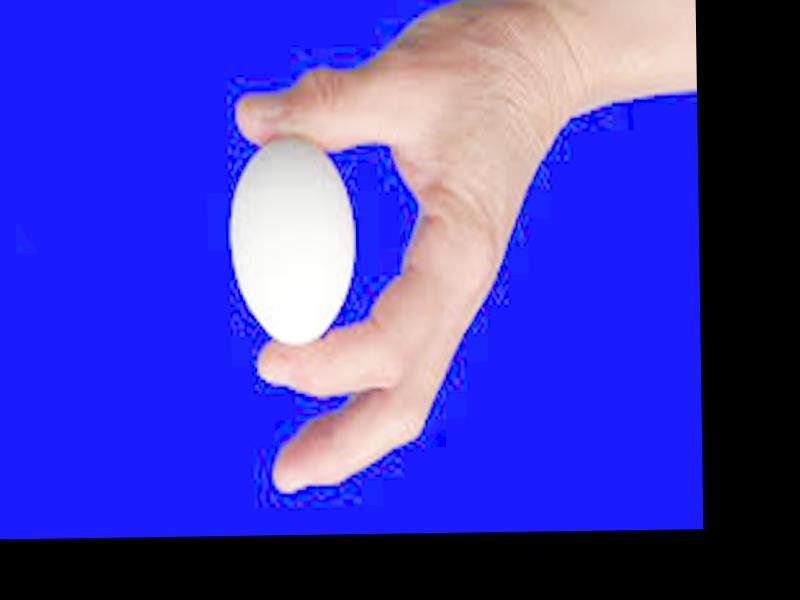Eggs: (230, 137, 356, 349)
